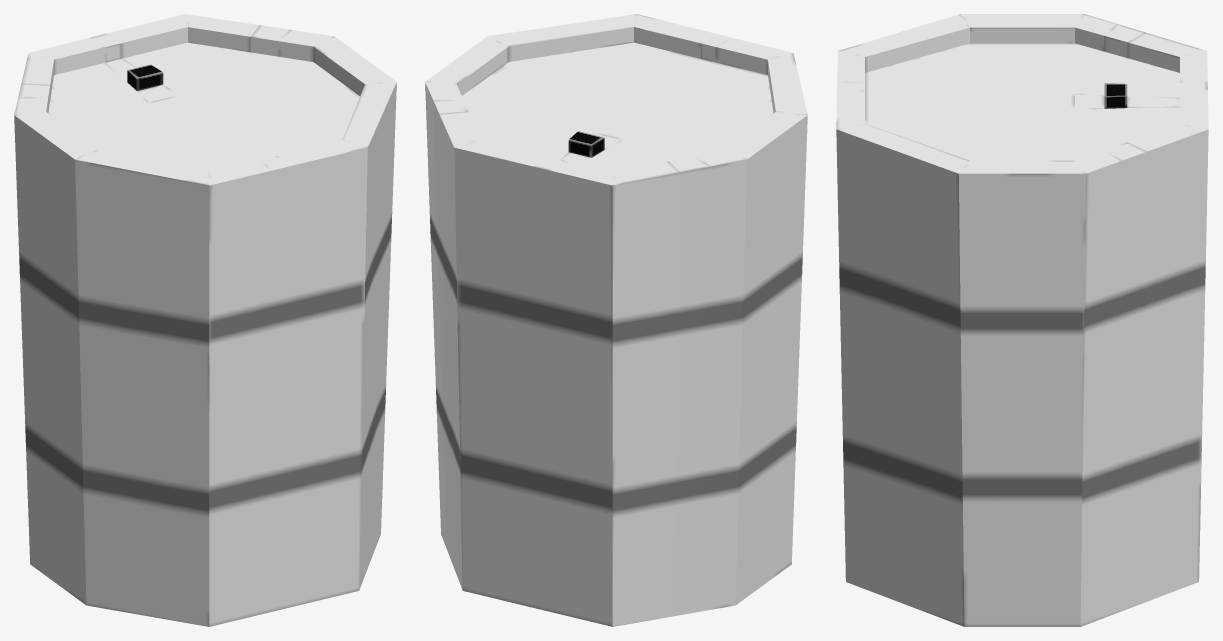
The model's file is Varil.obj.
The picture shows the model from 3 angles, left to right: view 1: azimuth 30°, elevation 25°; view 2: azimuth 150°, elevation 25°; view 3: azimuth 270°, elevation 25°; orthographic projection.
Parts seen in each view (by area): view 1: cube; view 2: cube; view 3: cube.
Boxes of the visible parts, x1=… form: cube: x1=14, y1=14, x2=396, y2=626; cube: x1=425, y1=14, x2=807, y2=626; cube: x1=836, y1=14, x2=1208, y2=626.
Bounding box in the file's own units: 0.675 × 0.9062 × 0.665.
